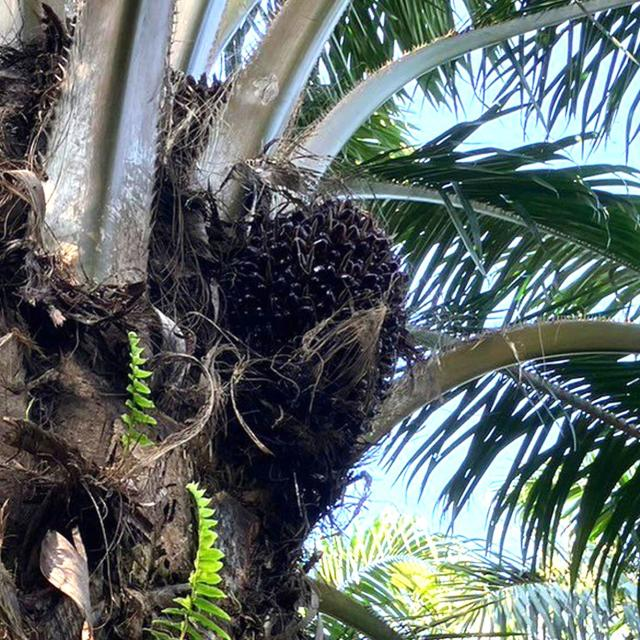ripe: (219, 184, 411, 496)
